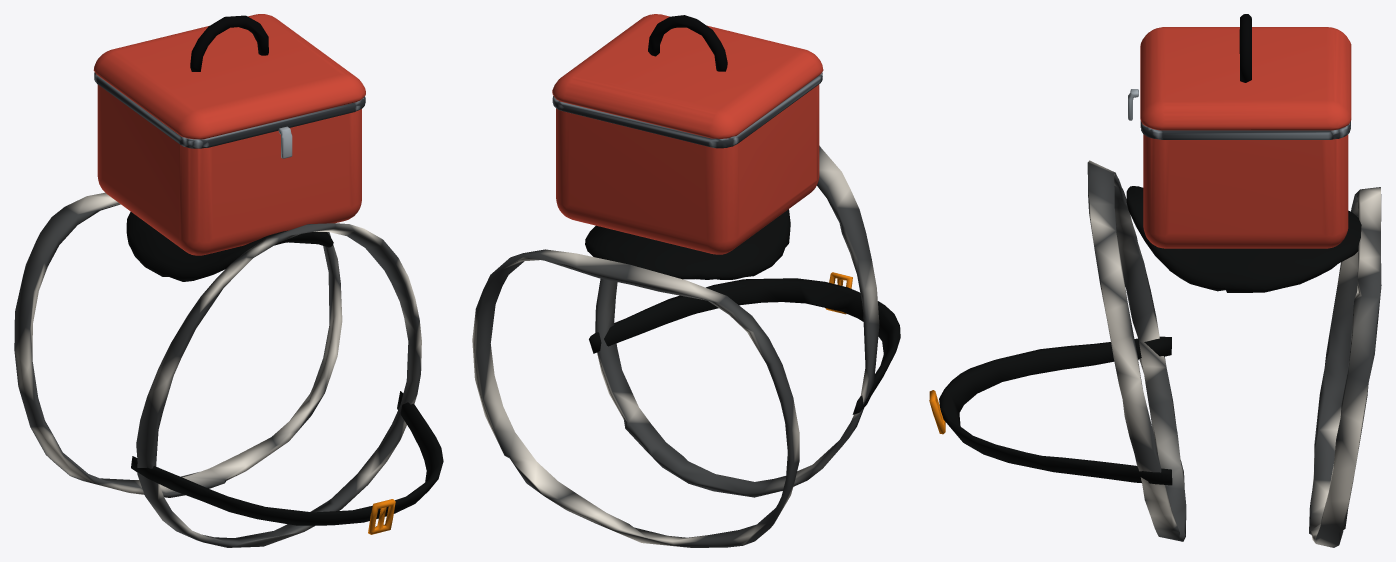
File: thung.glb
3 views of the same model, side by side, from view 1: azimuth 30°, elevation 25°; view 2: azimuth 150°, elevation 25°; view 3: azimuth 270°, elevation 25° (orthographic).
Visible parts, largest first — view 1: Thung, Dai_Than, Nap_Thung, Dai_Nguc, De_Lot, Khoa_Keo, Quai_Xach, Khoa_Nguc; view 2: Thung, Dai_Than, Nap_Thung, Dai_Nguc, De_Lot, Khoa_Keo, Quai_Xach; view 3: Dai_Than, Thung, Nap_Thung, Dai_Nguc, De_Lot, Khoa_Keo, Quai_Xach.
Boxes of the visible parts, <box> form: Thung: <box>97,84,361,255</box>; Dai_Than: <box>14,192,421,547</box>; Nap_Thung: <box>93,14,365,139</box>; Dai_Nguc: <box>131,391,443,525</box>; De_Lot: <box>126,211,333,281</box>; Khoa_Keo: <box>94,72,365,148</box>; Quai_Xach: <box>190,15,268,71</box>; Khoa_Nguc: <box>368,499,395,534</box>; Thung: <box>556,84,819,254</box>; Dai_Than: <box>472,145,879,547</box>; Nap_Thung: <box>552,14,823,138</box>; Dai_Nguc: <box>589,278,900,414</box>; De_Lot: <box>585,209,790,279</box>; Khoa_Keo: <box>552,72,822,148</box>; Quai_Xach: <box>648,15,727,71</box>; Dai_Than: <box>1087,160,1381,547</box>; Thung: <box>1143,134,1348,248</box>; Nap_Thung: <box>1140,27,1351,130</box>; Dai_Nguc: <box>939,336,1172,485</box>; De_Lot: <box>1126,186,1361,292</box>; Khoa_Keo: <box>1140,120,1350,139</box>; Quai_Xach: <box>1239,14,1251,82</box>.
Size of the model in its own units: 0.263 by 0.3933 by 0.3174.
